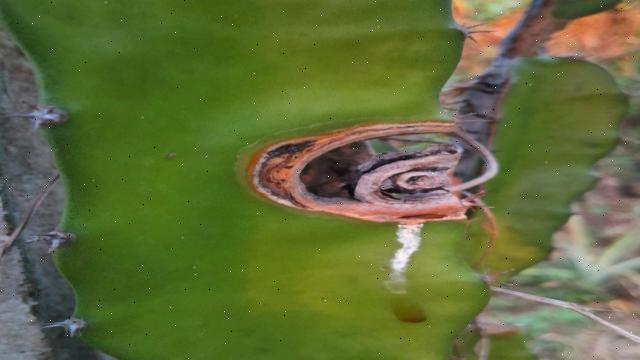stemcanker: (231, 118, 503, 231)
